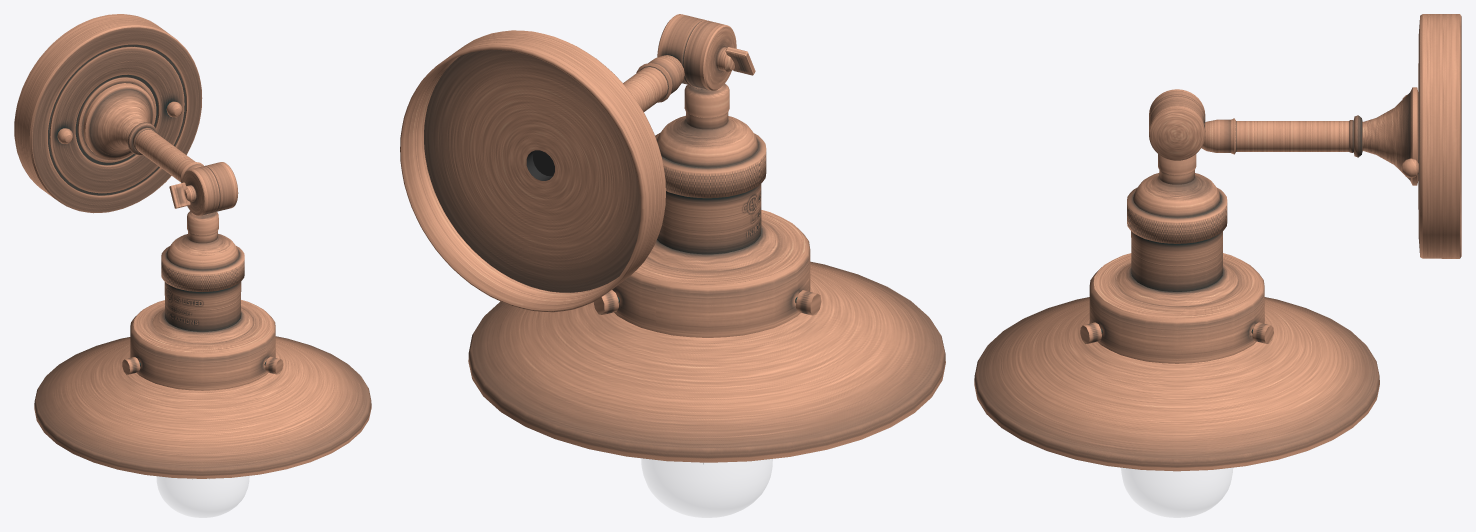
File: AnisotropyBarnLamp.glb
3 views of the same model, side by side, from view 1: azimuth 30°, elevation 25°; view 2: azimuth 150°, elevation 25°; view 3: azimuth 270°, elevation 25° (orthographic). The views are drawn at different scales.
Visible parts, largest first — view 1: lamp, lamp glass; view 2: lamp, lamp glass; view 3: lamp, lamp glass.
Boxes of the visible parts, x1,y1,x2,y2 form: lamp: (14,14,371,479); lamp glass: (157,476,249,517); lamp: (400,14,945,464); lamp glass: (641,458,772,517); lamp: (974,14,1461,471); lamp glass: (1121,468,1232,517).
Bounding box in the file's own units: 0.1908 × 0.2552 × 0.2265.
Materials: 3 (1 with a texture image).
